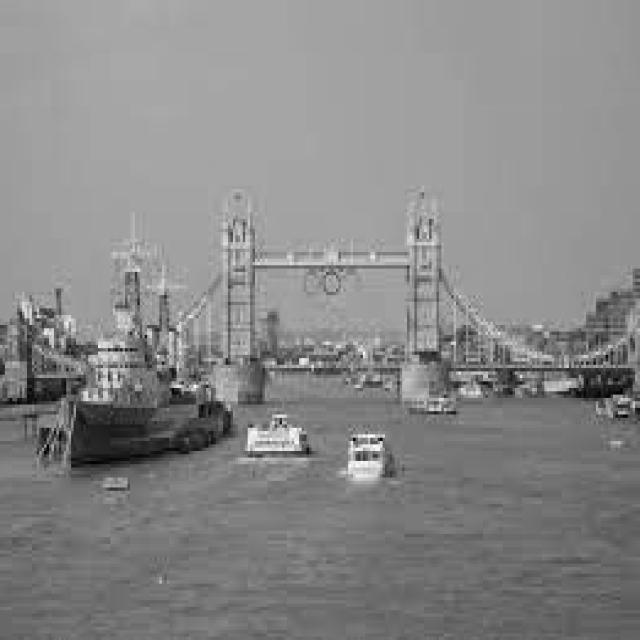Bridges: (10, 156, 638, 445)
